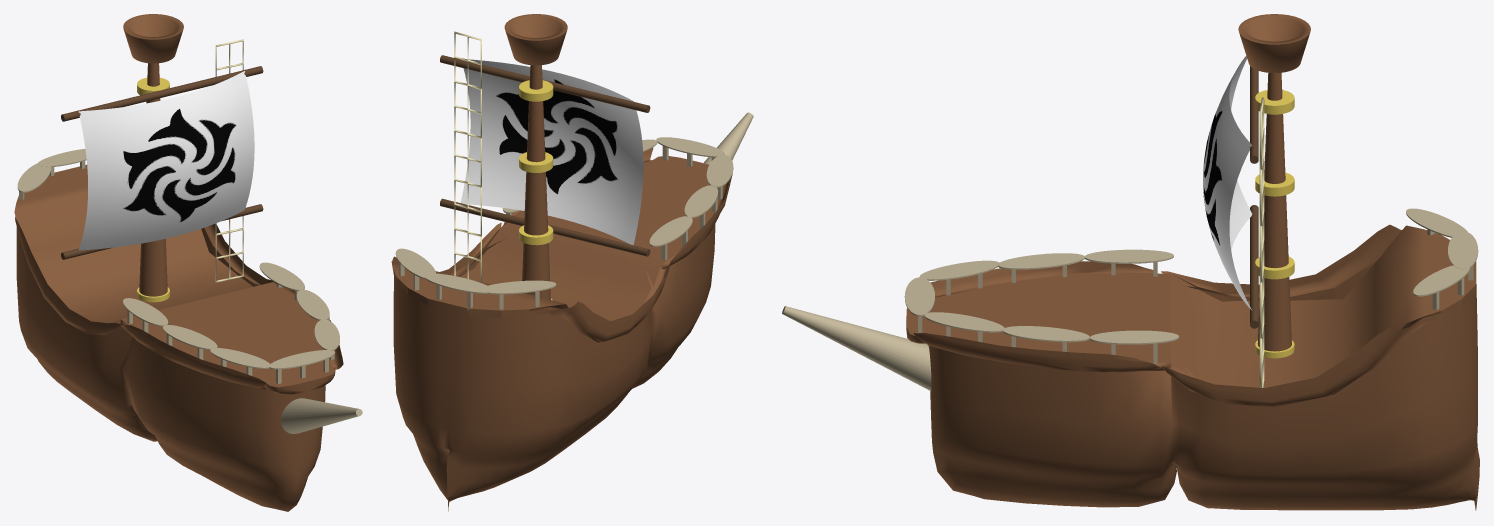
Rendered from shipship.glb.
The picture shows the model from 3 angles, left to right: view 1: azimuth 30°, elevation 25°; view 2: azimuth 150°, elevation 25°; view 3: azimuth 270°, elevation 25°; orthographic projection. The views are drawn at different scales.
Visible parts, largest first — view 1: Plane; view 2: Plane; view 3: Plane.
Boxes of the visible parts, x1,y1,x2,y2 form: Plane: (14, 14, 362, 511); Plane: (391, 14, 753, 511); Plane: (782, 14, 1479, 510).
Size of the model in its own units: 6 by 11.68 by 15.3.
6 materials, 1 textured.
